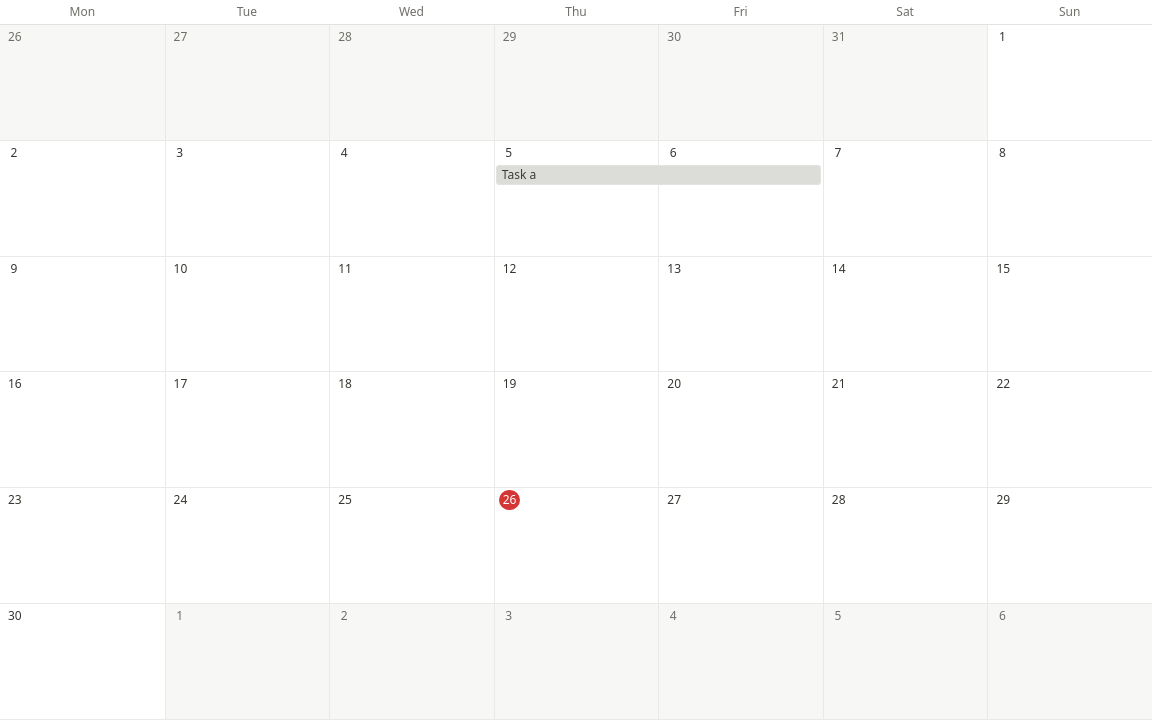
Test: CalendarView — gestures › moves a bar across a week boundary with one undo step (CAL-6)
The width and height of the screenshot is (1152, 720).
Press the mouse on the button with aria-label "Task a," at (519, 174), box 496,165 -> 821,185
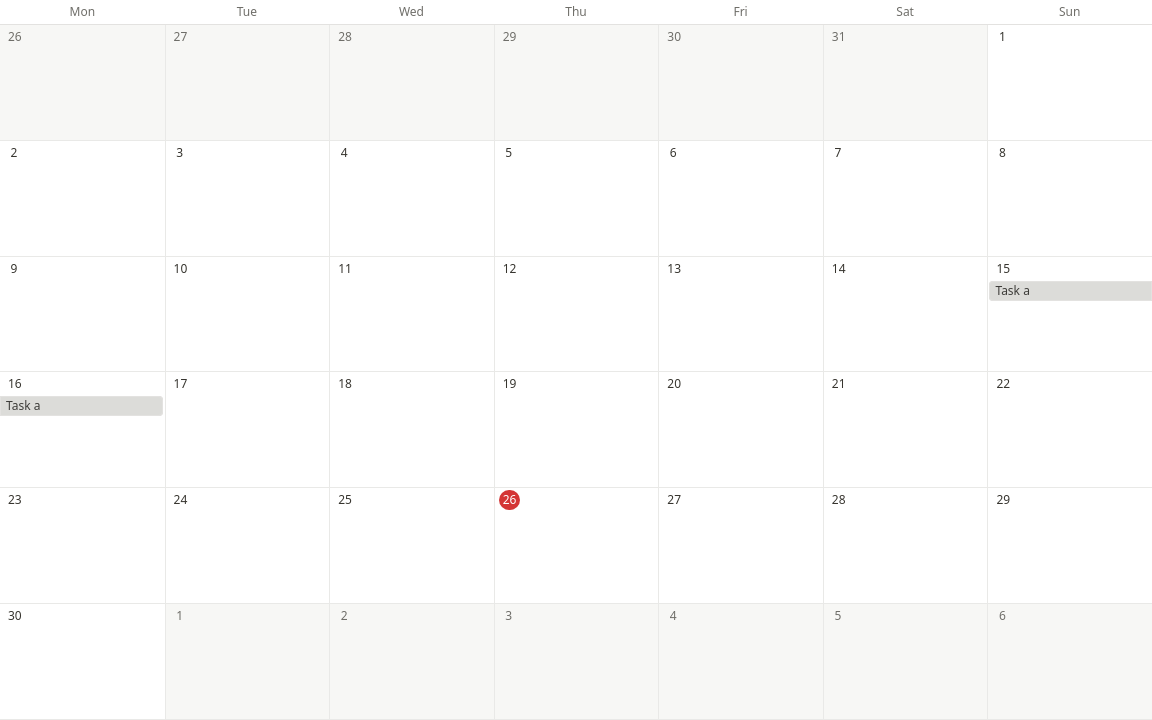
Check: the number of buttons named "Task a," is 2, box 989,281 -> 1151,301; 0,396 -> 163,416
